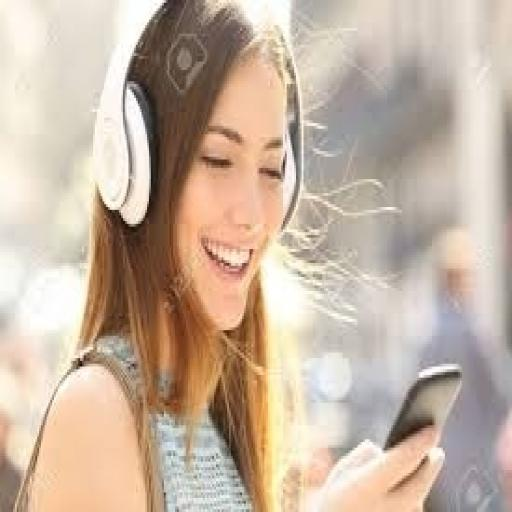listening_to_music: (9, 0, 451, 509)
